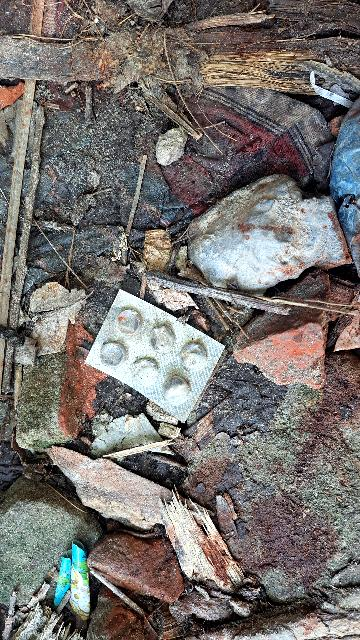medicine: (79, 278, 229, 425)
